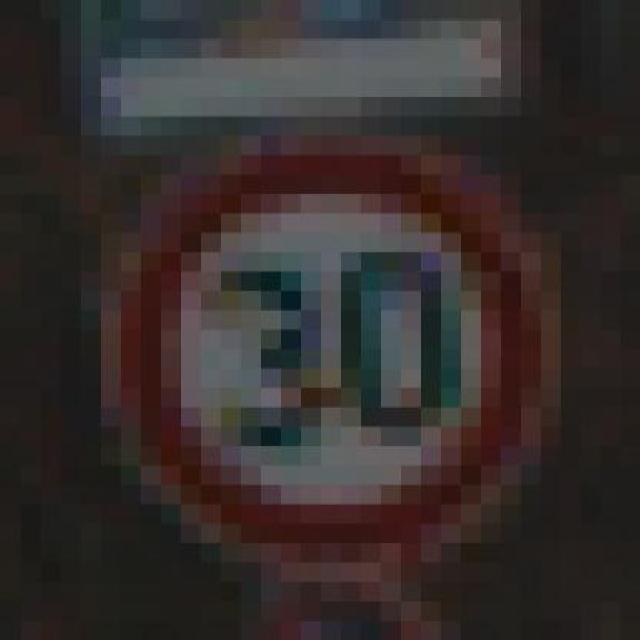Speed Limit 30 KMPh: (60, 116, 600, 582)
